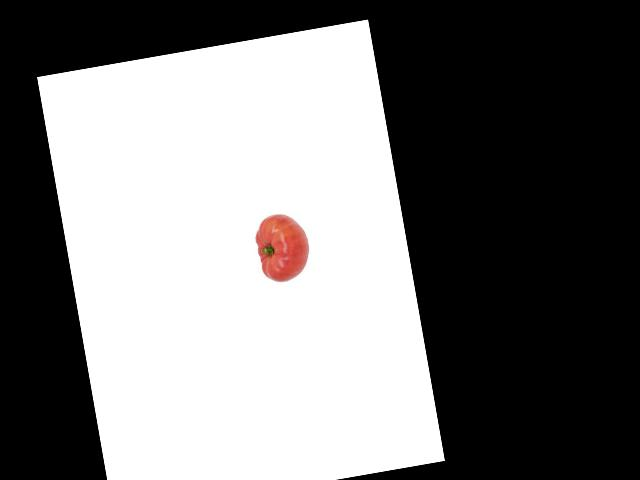tomato: (253, 209, 313, 284)
